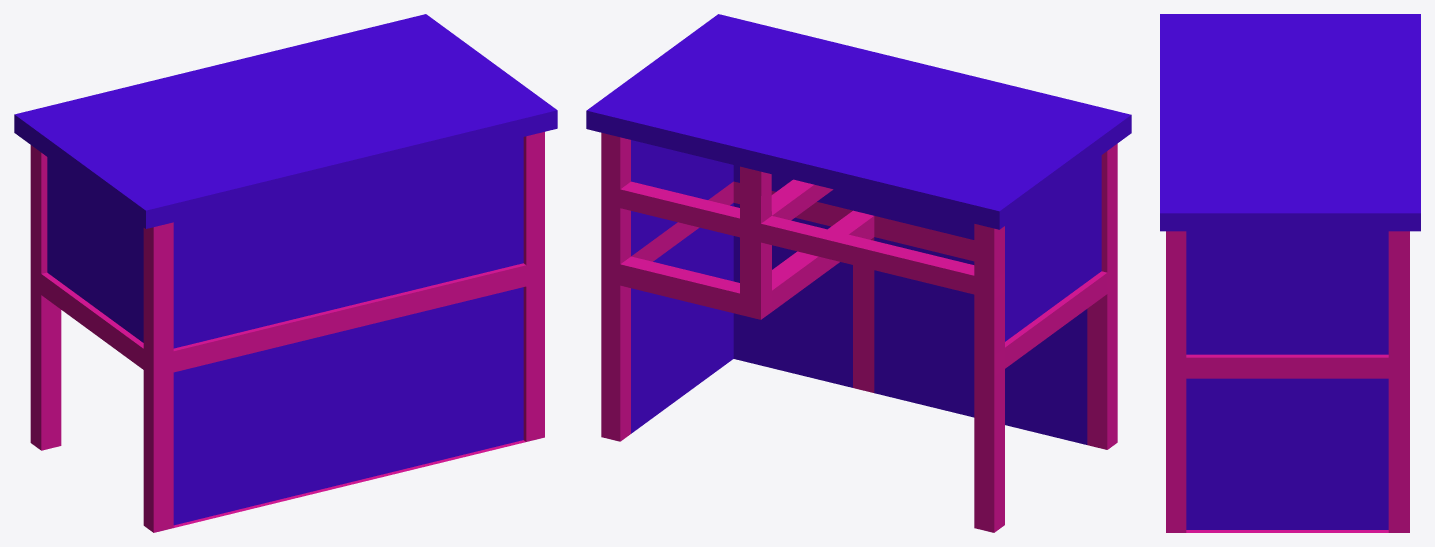
File: GGJ-TeacherDesk.fbx
3 renders of one model, left to right at view 1: azimuth 30°, elevation 25°; view 2: azimuth 150°, elevation 25°; view 3: azimuth 270°, elevation 25°, orthographic.
Visible parts, largest first — view 1: Teacher-Desk; view 2: Teacher-Desk; view 3: Teacher-Desk.
Boxes of the visible parts, x1=… form: Teacher-Desk: x1=14, y1=14, x2=557, y2=532; Teacher-Desk: x1=586, y1=14, x2=1131, y2=532; Teacher-Desk: x1=1160, y1=14, x2=1420, y2=532.
Bounding box in the file's own units: 386 × 214 × 293.
